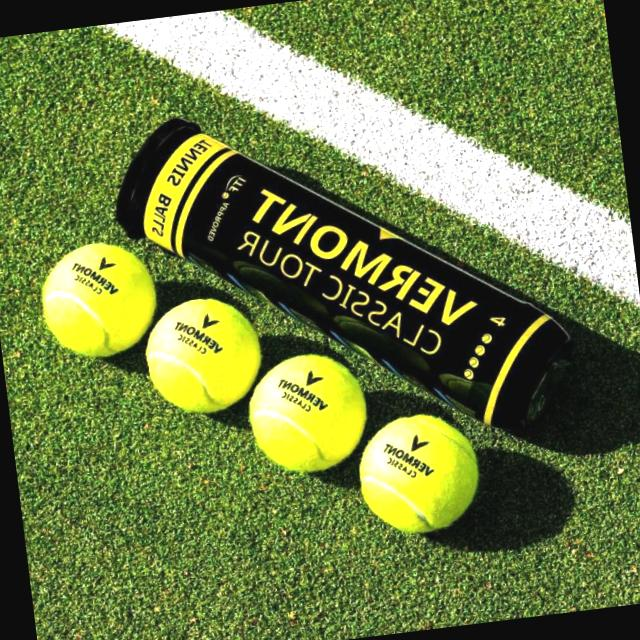ball: (342, 397, 488, 550)
